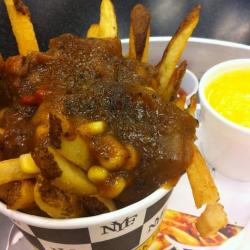fries: (3, 43, 191, 224)
